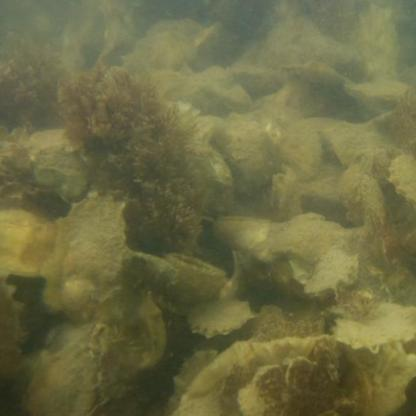3: (167, 253, 229, 308), (304, 248, 361, 298)
Oyster-Closed: (46, 194, 127, 327), (22, 324, 106, 416), (28, 127, 91, 201), (354, 342, 416, 416), (108, 291, 168, 367), (224, 111, 276, 189), (359, 176, 400, 267), (214, 216, 280, 263), (185, 299, 251, 338), (193, 65, 252, 108), (284, 62, 352, 90), (344, 76, 412, 101), (270, 173, 301, 222), (390, 154, 416, 205)
Oyster-Open: (175, 337, 372, 416), (0, 200, 54, 277), (274, 214, 344, 262), (322, 120, 377, 166), (279, 128, 323, 179)
